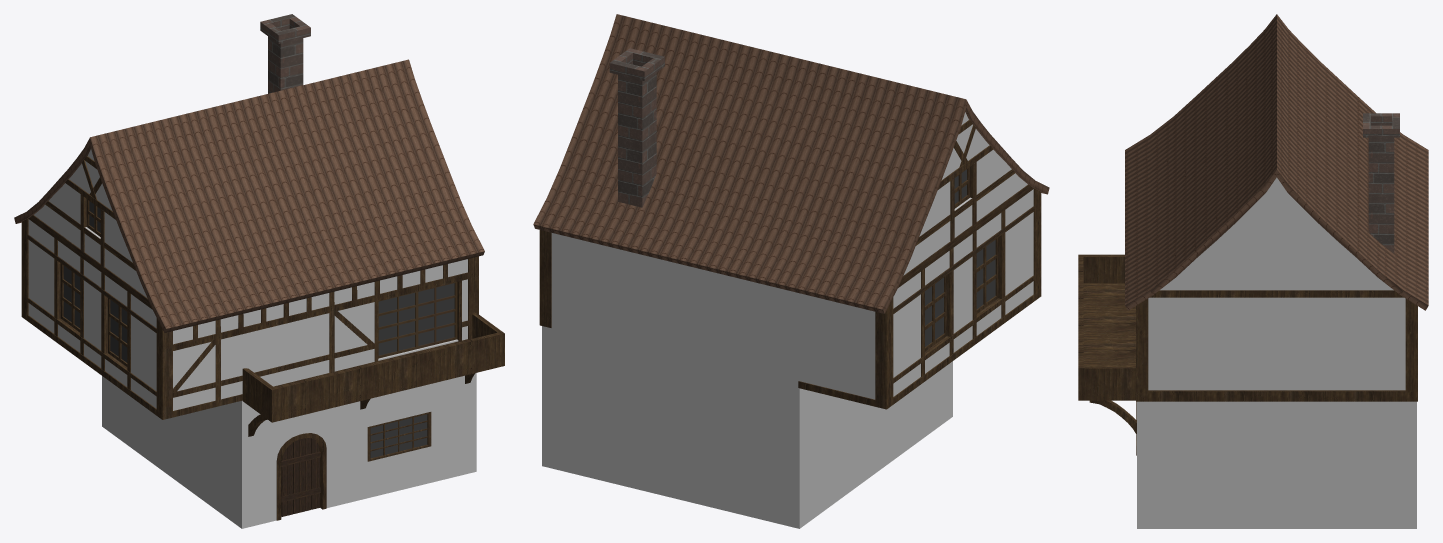
The model's file is House 3.fbx.
3 renders of one model, left to right at view 1: azimuth 30°, elevation 25°; view 2: azimuth 150°, elevation 25°; view 3: azimuth 270°, elevation 25°, orthographic. The views are drawn at different scales.
Parts seen in each view (by area): view 1: Cube, House 2.003, Cube.007, Cube.001, House 2.007, Cube.002, House 2.010, House 2.012, House 2.009, House 2.011; view 2: House 2.003, Cube, Cube.007, Cube.002, House 2.012; view 3: House 2.003, Cube, Cube.001, Cube.007, Cube.002, Vert.
Part boxes in pixels (x1=…): Cube: x1=14, y1=59, x2=484, y2=332; House 2.003: x1=28, y1=149, x2=476, y2=528; Cube.007: x1=21, y1=156, x2=478, y2=419; Cube.001: x1=242, y1=312, x2=504, y2=422; House 2.007: x1=378, y1=282, x2=457, y2=358; Cube.002: x1=260, y1=14, x2=310, y2=93; House 2.010: x1=281, y1=438, x2=320, y2=516; House 2.012: x1=60, y1=199, x2=127, y2=366; House 2.009: x1=367, y1=412, x2=431, y2=461; House 2.011: x1=276, y1=433, x2=326, y2=520; House 2.003: x1=542, y1=112, x2=1033, y2=528; Cube: x1=533, y1=14, x2=1049, y2=313; Cube.007: x1=539, y1=120, x2=1041, y2=409; Cube.002: x1=609, y1=48, x2=664, y2=207; House 2.012: x1=925, y1=167, x2=998, y2=351; House 2.003: x1=1137, y1=177, x2=1416, y2=528; Cube: x1=1125, y1=14, x2=1428, y2=310; Cube.001: x1=1078, y1=254, x2=1135, y2=400; Cube.007: x1=1136, y1=290, x2=1417, y2=401; Cube.002: x1=1363, y1=113, x2=1399, y2=253; Vert: x1=1089, y1=400, x2=1136, y2=434.
Size of the model in its own units: 1610 by 1807 by 1534.
